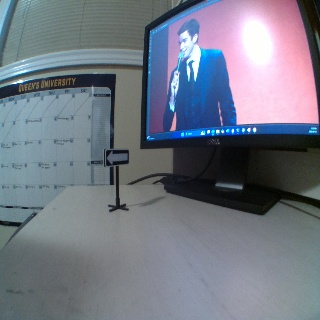sign_oneway_left: (102, 147, 129, 166)
